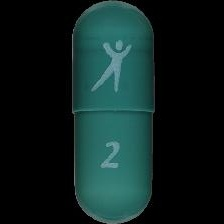0009-5190: (0, 0, 224, 224)
